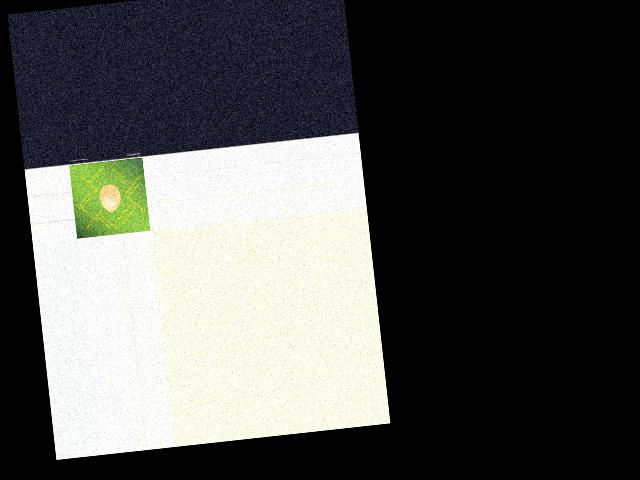egg: (98, 183, 121, 212)
